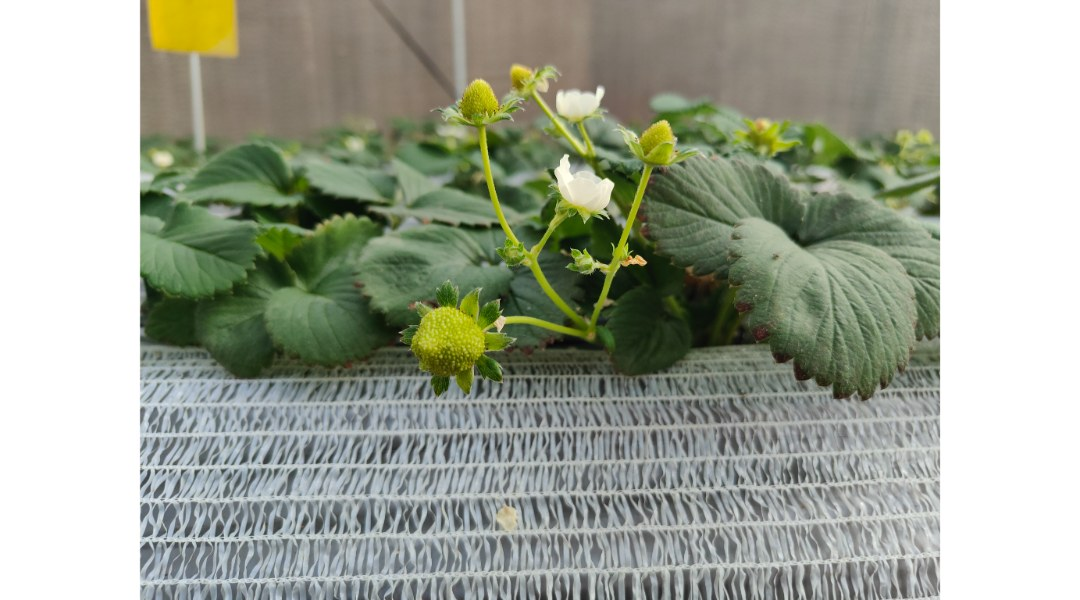berry: (394, 284, 515, 401), (440, 71, 508, 134), (622, 114, 699, 167), (489, 55, 553, 103), (552, 239, 601, 283), (491, 225, 533, 269), (613, 235, 637, 271)
flower: (547, 153, 617, 225), (533, 76, 619, 126)
strain: (596, 170, 650, 322), (468, 146, 517, 242), (485, 314, 571, 342)
